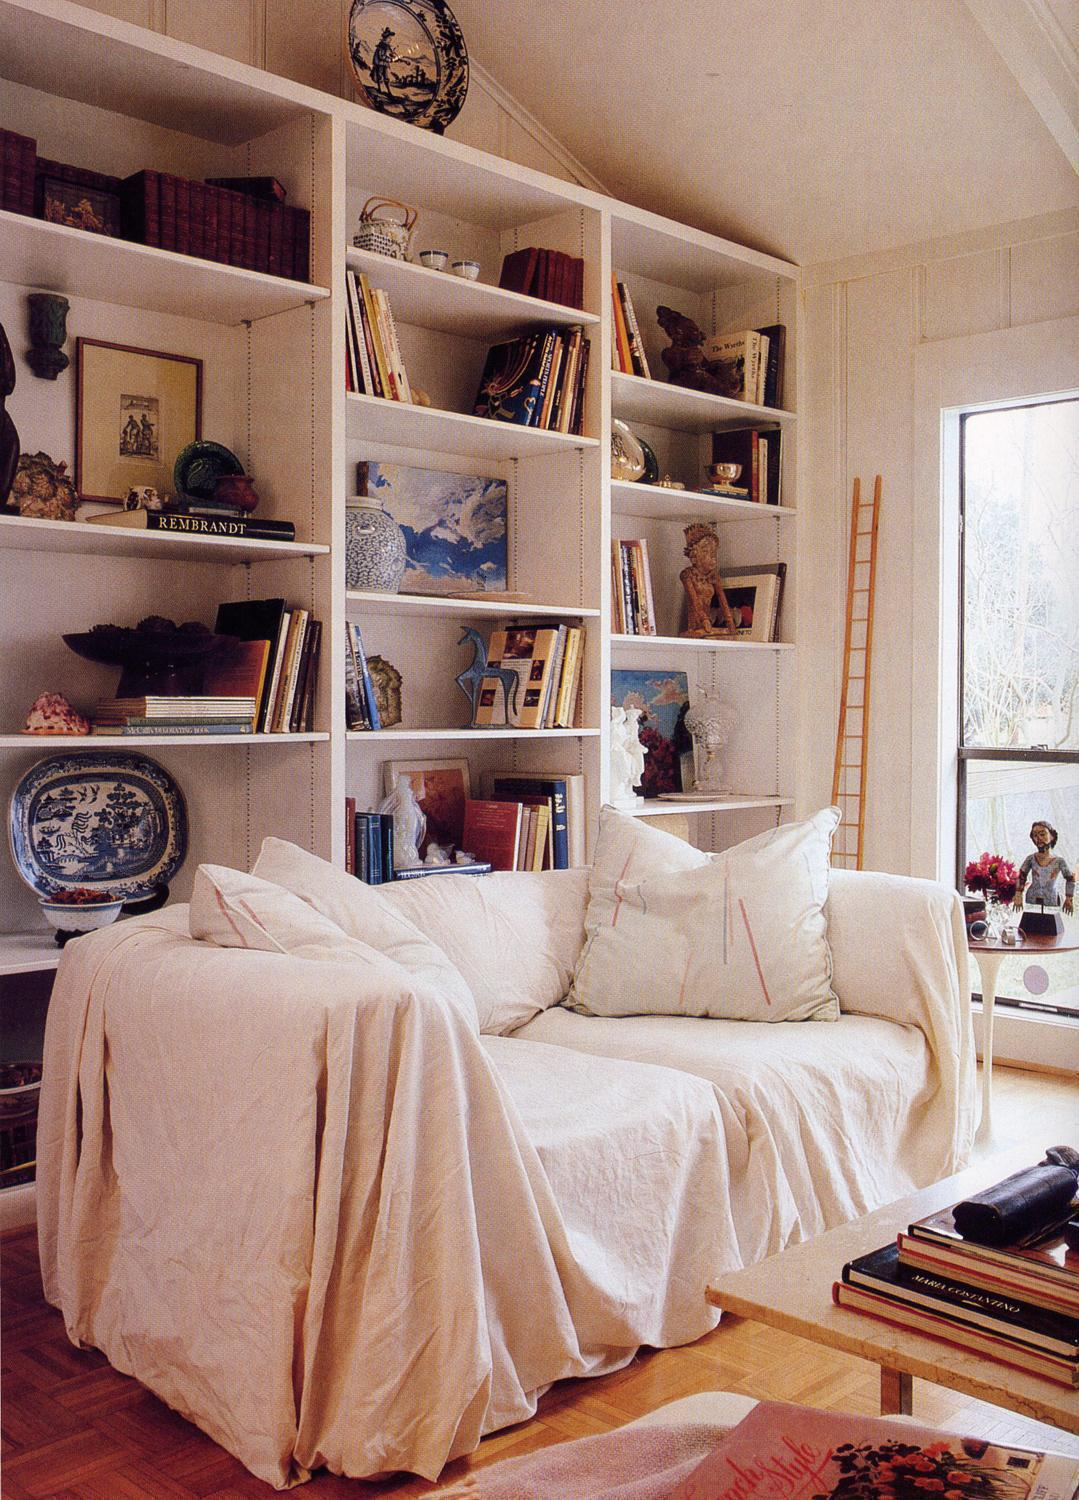Ventana: (944, 398, 1071, 1025)
